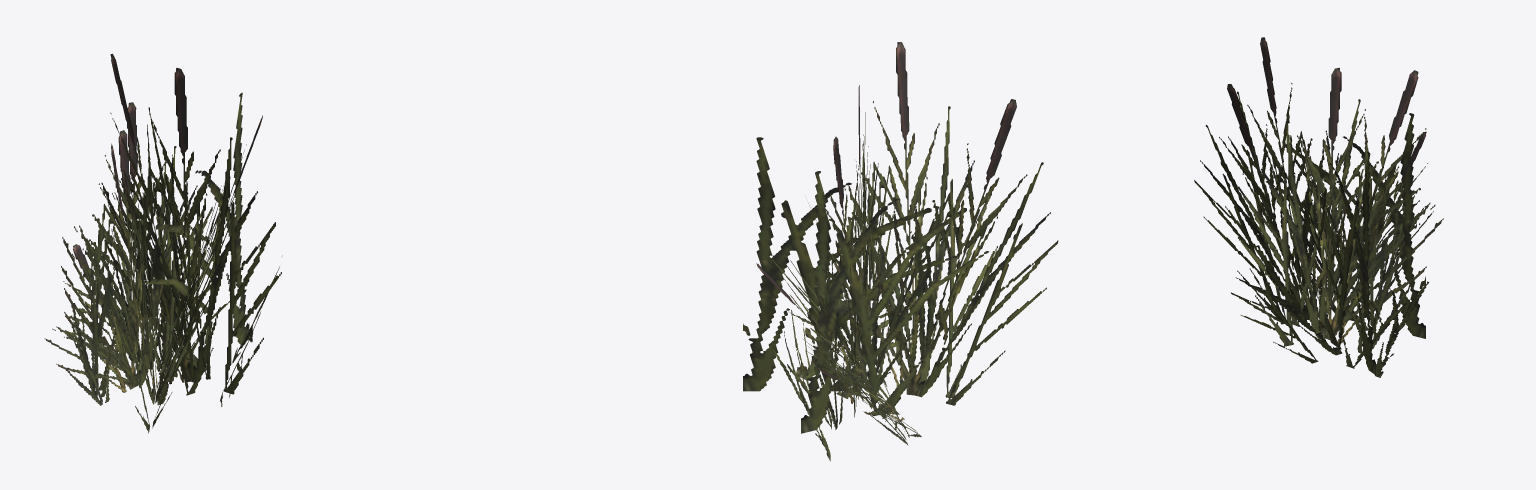
Rendered from weed01.glb.
3 views of the same model, side by side, from view 1: azimuth 30°, elevation 25°; view 2: azimuth 150°, elevation 25°; view 3: azimuth 270°, elevation 25° (orthographic). The views are drawn at different scales.
Parts seen in each view (by area): view 1: _weed01; view 2: _weed01; view 3: _weed01.
Boxes of the visible parts, box(x1,y1,x2,y2) form: _weed01: box(44, 53, 282, 433); _weed01: box(743, 42, 1058, 461); _weed01: box(1194, 37, 1443, 377).
Bounding box in the file's own units: 4.45 × 3.49 × 3.38.
1 material, 1 textured.
